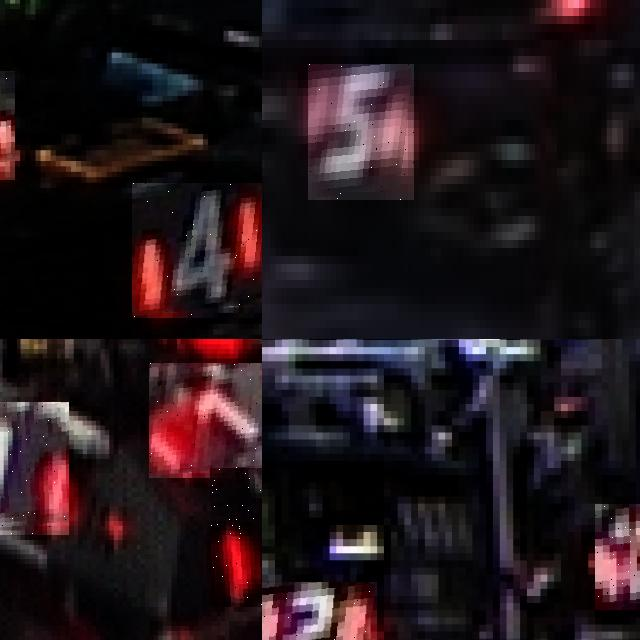R1: (149, 363, 262, 477), (0, 401, 69, 535), (211, 468, 262, 606)
R2: (262, 581, 377, 640), (595, 503, 640, 610)
R4: (131, 182, 262, 318)
R5: (308, 64, 414, 200)
